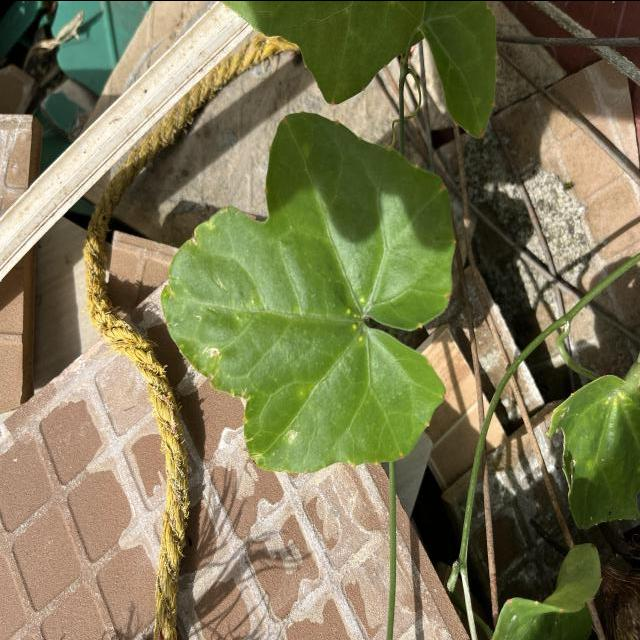Coccinia grandis: (160, 108, 459, 474)
